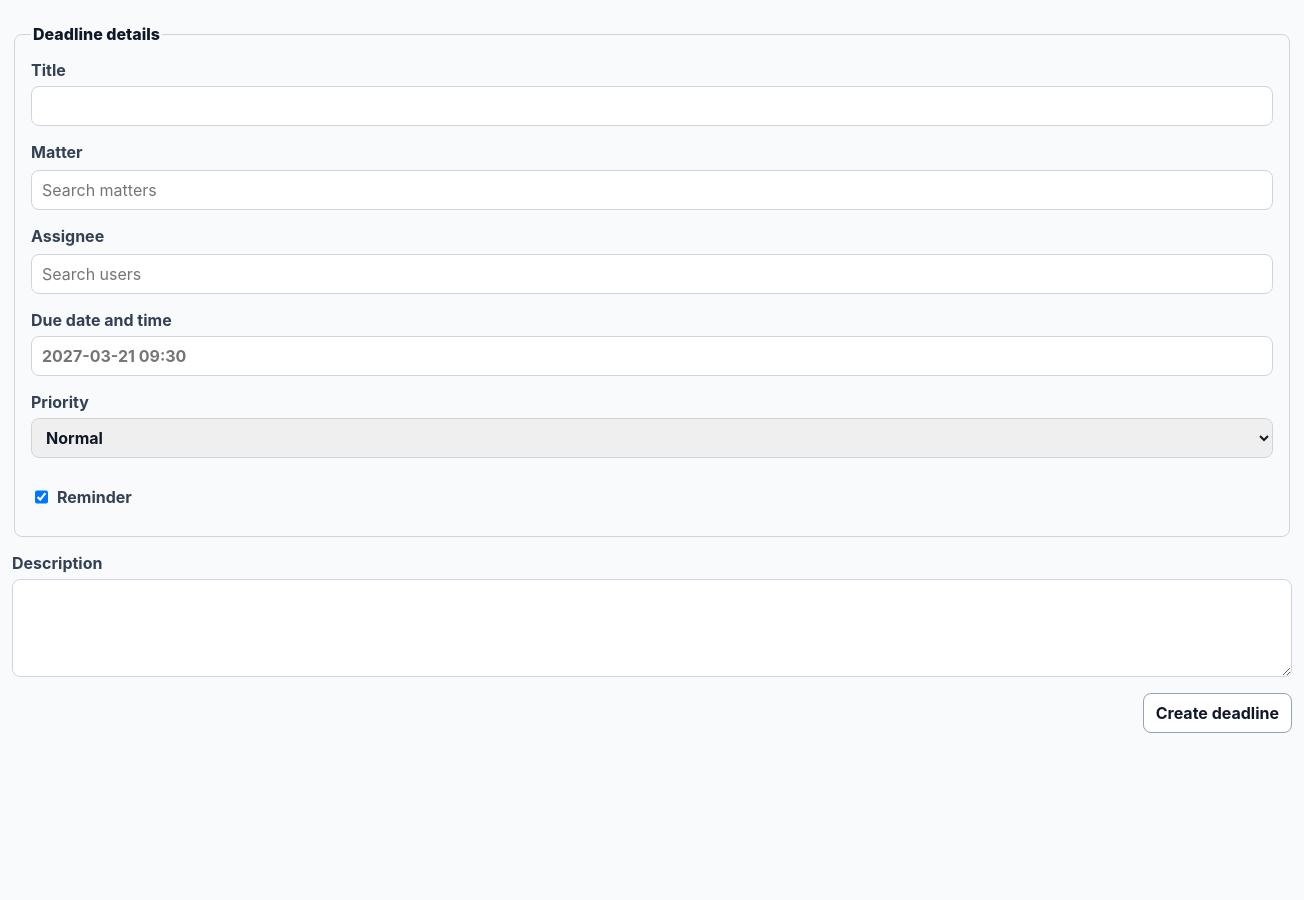
validates required deadline fields before submit
The width and height of the screenshot is (1304, 900).
What coordinates should you click on to do the following:
click the button "Create deadline"
I would click on:
 (1217, 713)
Its box is [1143,693,1292,733].
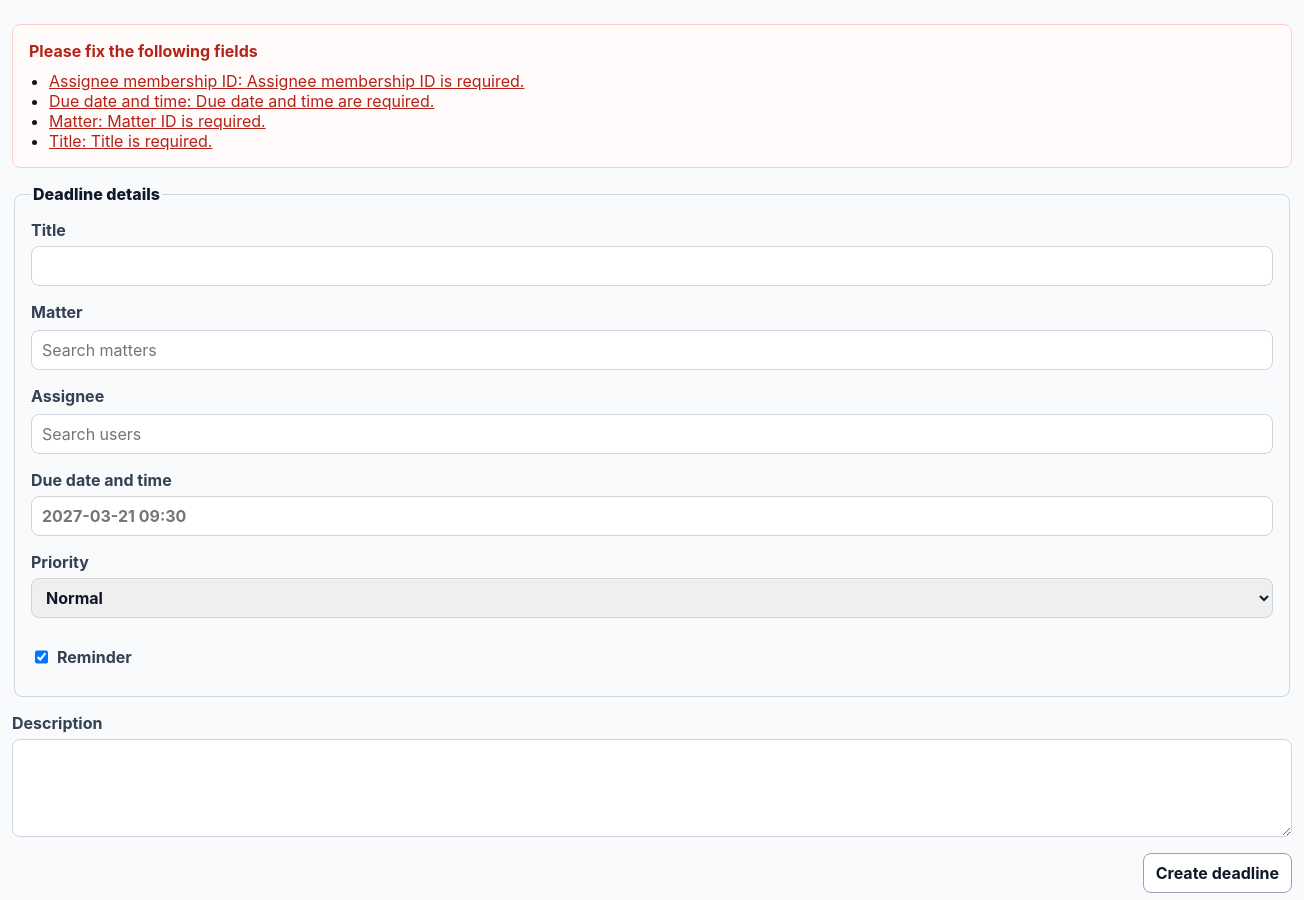
Expected: the message shows "Title", [49,131,212,151]
